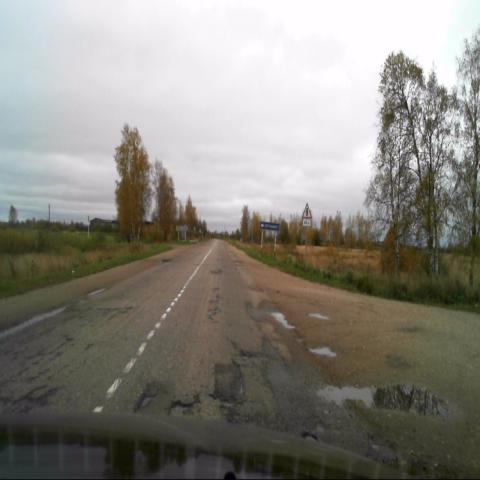2_3_3: (302, 203, 312, 218)
